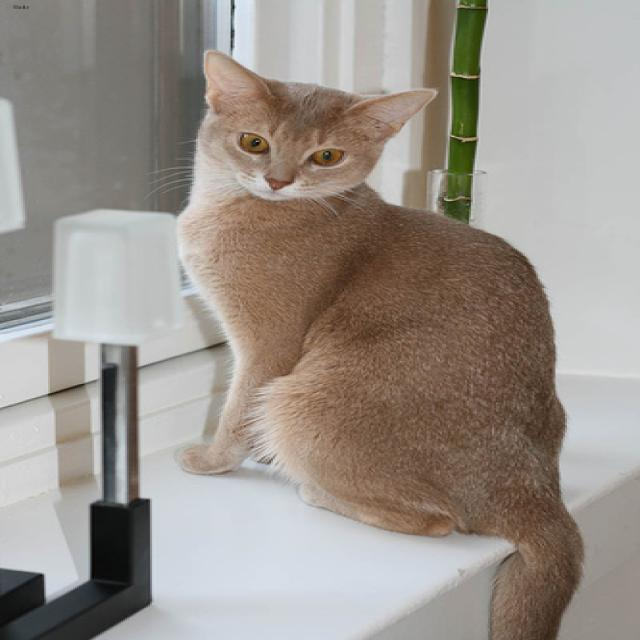Abyssinian: (200, 47, 434, 200)
